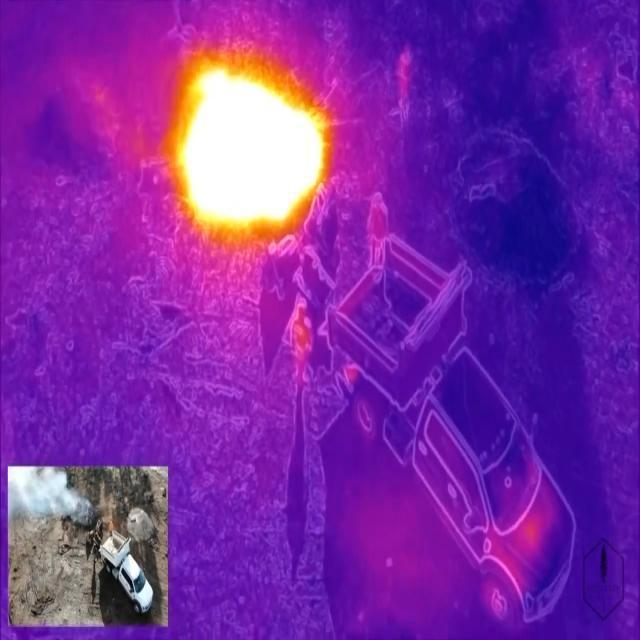fire: (170, 46, 330, 246)
